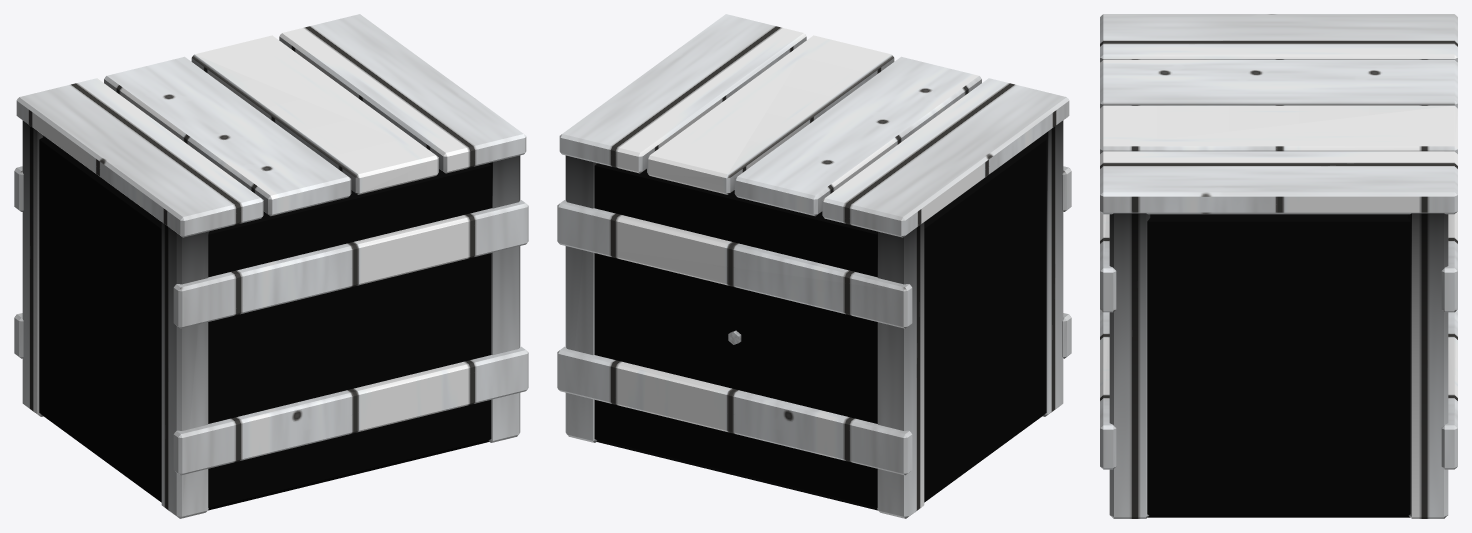
3 renders of one model, left to right at view 1: azimuth 30°, elevation 25°; view 2: azimuth 150°, elevation 25°; view 3: azimuth 270°, elevation 25°, orthographic. The views are drawn at different scales.
Parts seen in each view (by area): view 1: crate_M_wood, crate_M_wood_dark; view 2: crate_M_wood, crate_M_wood_dark; view 3: crate_M_wood, crate_M_wood_dark.
Boxes of the visible parts, x1,y1,x2,y2 form: crate_M_wood: (39, 14, 526, 510); crate_M_wood_dark: (14, 35, 528, 518); crate_M_wood: (559, 14, 1046, 510); crate_M_wood_dark: (557, 35, 1071, 518); crate_M_wood: (1100, 59, 1457, 517); crate_M_wood_dark: (1100, 14, 1457, 518).
Bounding box in the file's own units: 0.8 × 0.6675 × 0.66.
Materials: 3 (3 with a texture image).
